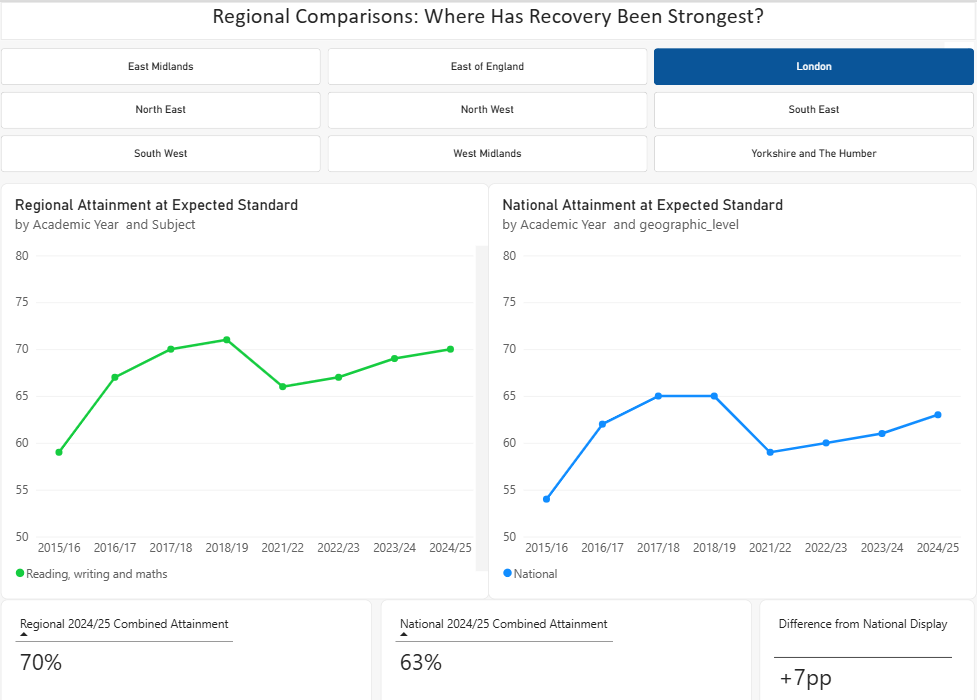

This screenshot's page, from the dashboard's own definition file:
{"tool":"powerbi","page":{"name":"Regional Comparisons","canvas":[1920,1080],"ordinal":2},"visuals":[{"type":"textbox","box":[10,0,1164.3,45.7],"z":0},{"type":"advancedSlicerVisual","fields":{"Values":["ks2_regional_and_local_authority_2016_to_2026_provisional.Region"]},"box":[10,55.7,1164.3,150],"z":1000},{"type":"lineChart","fields":{"Category":["ks2_regional_and_local_authority_2016_to_2026_provisional.Academic Year "],"Series":["ks2_regional_and_local_authority_2016_to_2026_provisional.Subject"],"Y":["Avg(ks2_regional_and_local_authority_2016_to_2026_provisional.Expected Standard %)"]},"box":[10,215.7,582.9,497.1],"z":2000},{"type":"shape","box":[577.1,291.4,54.3,388.6],"z":3000},{"type":"lineChart","fields":{"Category":["ks2_regional_and_local_authority_2016_to_2026_provisional.Academic Year "],"Series":["ks2_regional_and_local_authority_2016_to_2026_provisional.geographic_level"],"Y":["Avg(ks2_regional_and_local_authority_2016_to_2026_provisional.Expected Standard %)"]},"box":[592.9,215.7,582.9,497.1],"z":4000},{"type":"tableEx","fields":{"Values":["ks2_regional_and_local_authority_2016_to_2026_provisional.Latest Regional Attainment Display"]},"box":[10,712.9,442.9,134.3],"z":5000},{"type":"tableEx","fields":{"Values":["ks2_regional_and_local_authority_2016_to_2026_provisional.National Attainment Display"]},"box":[463.6,712.9,442.9,134.3],"z":6000},{"type":"tableEx","fields":{"Values":["ks2_regional_and_local_authority_2016_to_2026_provisional.Difference from National Display"]},"box":[917.1,712.9,257.1,134.3],"z":7000}]}

Visuals, with their boxes on the page's 1920x1080 design canvas (x1, y1, x2, y2). These are canvas units, not pixel positions in the 977x700 screenshot, which may show the page scaled, cropped or inside an application window:
textbox: (left=10, top=0, right=1174, bottom=46)
advancedSlicerVisual - ks2_regional_and_local_authority_2016_to_2026_provisional.Region: (left=10, top=56, right=1174, bottom=206)
lineChart - ks2_regional_and_local_authority_2016_to_2026_provisional.Academic Year  x ks2_regional_and_local_authority_2016_to_2026_provisional.Subject: (left=10, top=216, right=593, bottom=713)
shape: (left=577, top=291, right=631, bottom=680)
lineChart - ks2_regional_and_local_authority_2016_to_2026_provisional.Academic Year  x ks2_regional_and_local_authority_2016_to_2026_provisional.geographic_level: (left=593, top=216, right=1176, bottom=713)
tableEx - ks2_regional_and_local_authority_2016_to_2026_provisional.Latest Regional Attainment Display: (left=10, top=713, right=453, bottom=847)
tableEx - ks2_regional_and_local_authority_2016_to_2026_provisional.National Attainment Display: (left=464, top=713, right=906, bottom=847)
tableEx - ks2_regional_and_local_authority_2016_to_2026_provisional.Difference from National Display: (left=917, top=713, right=1174, bottom=847)
